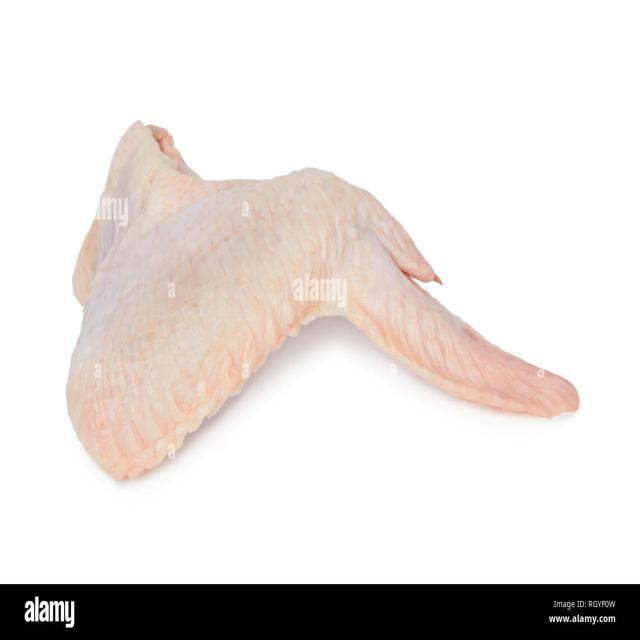wing: (62, 108, 584, 488)
